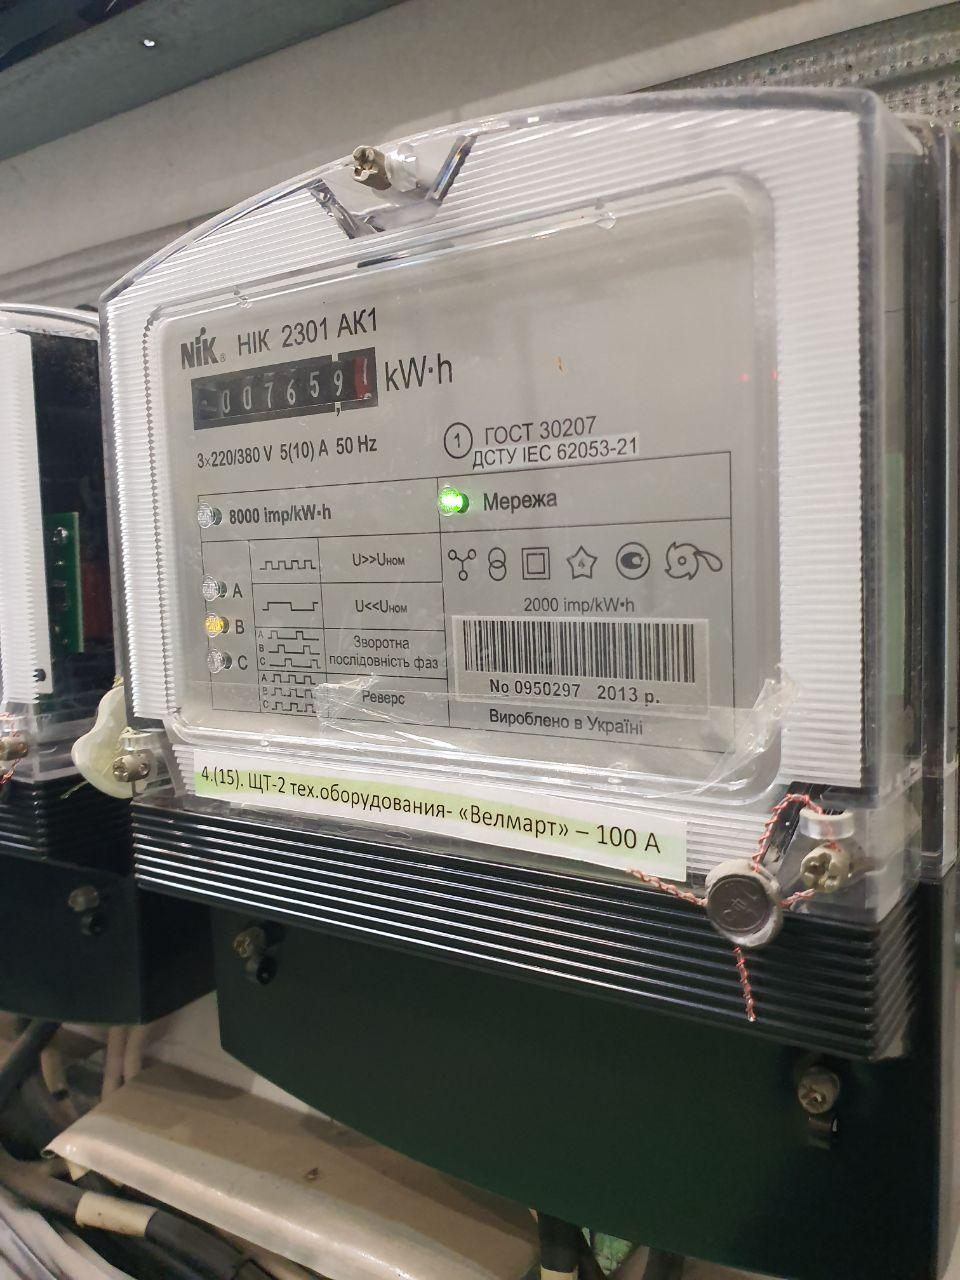counter: (96, 84, 956, 1274)
counter_screen: (187, 341, 381, 432)
